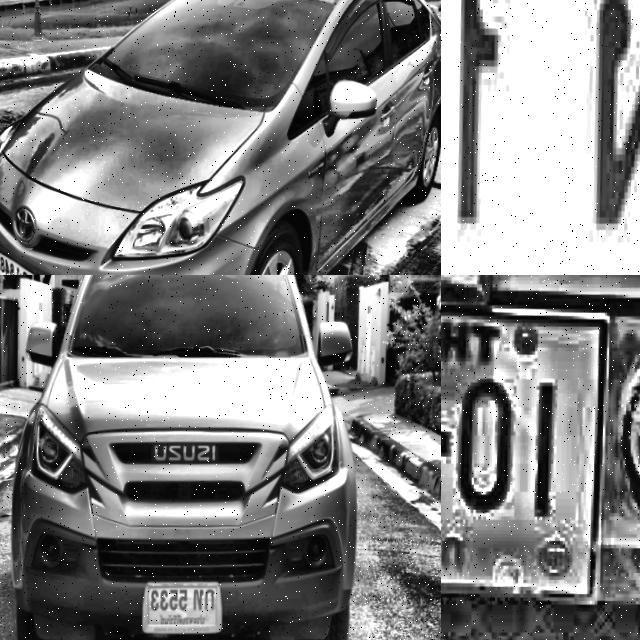license-plate: (441, 275, 640, 639), (441, 0, 640, 275), (144, 572, 230, 635), (0, 237, 48, 275)
